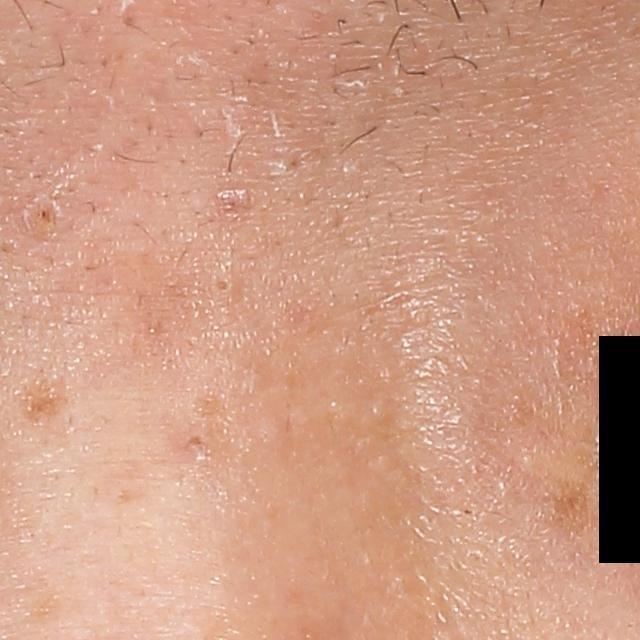comedo: (208, 271, 238, 306)
melasma: (535, 480, 597, 553), (7, 368, 67, 427)
